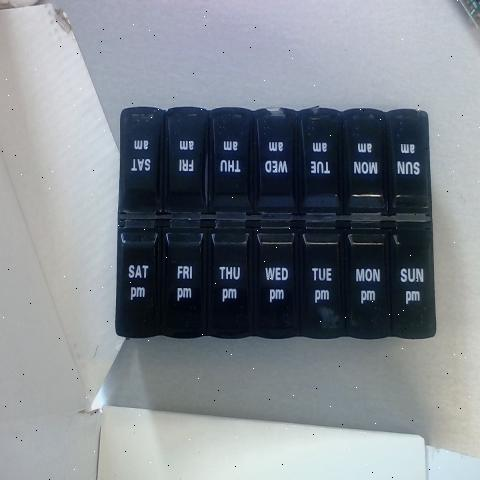FRI-am: (162, 112, 206, 227)
FRI-pm: (164, 227, 206, 336)
MON-am: (343, 113, 387, 229)
MON-pm: (348, 226, 390, 340)
SAT-am: (120, 112, 164, 204)
SAT-pm: (119, 226, 159, 332)
SUN-am: (387, 110, 426, 216)
SUN-pm: (393, 227, 435, 341)
THU-am: (204, 114, 248, 227)
THU-pm: (209, 228, 251, 338)
TUE-am: (299, 222, 343, 337)
TUE-pm: (299, 113, 343, 222)
WED-am: (253, 111, 299, 224)
WED-pm: (256, 230, 296, 336)
